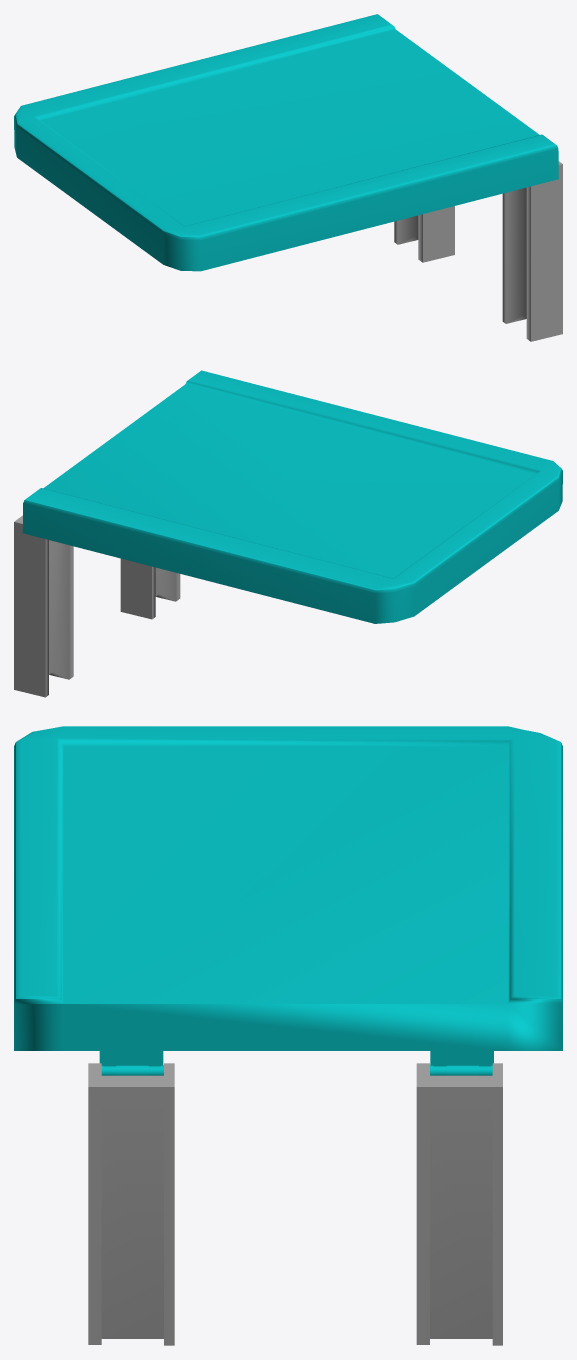
Rendered from table.fbx.
3 renders of one model, top to bottom at view 1: azimuth 30°, elevation 25°; view 2: azimuth 150°, elevation 25°; view 3: azimuth 270°, elevation 25°, orthographic. The views are drawn at different scales.
Parts seen in each view (by area): view 1: table_top, table_hinge; view 2: table_top, table_hinge; view 3: table_top, table_hinge.
Part boxes in pixels (<box>): table_top: <box>14,14,558,271</box>; table_hinge: <box>394,161,562,341</box>; table_top: <box>22,370,562,623</box>; table_hinge: <box>14,515,180,697</box>; table_top: <box>14,726,562,1075</box>; table_hinge: <box>88,1063,502,1345</box>.
Bounding box in the file's own units: 0.0251 × 0.0126 × 0.0193.
